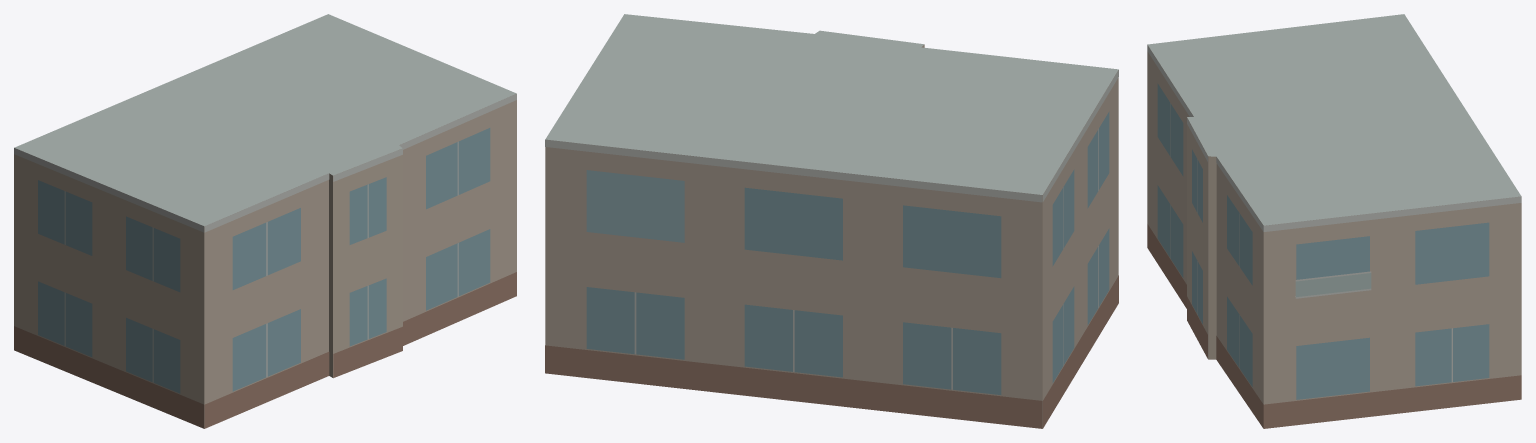
File: survey-upis-32611862.glb
3 views of the same model, side by side, from view 1: azimuth 30°, elevation 25°; view 2: azimuth 150°, elevation 25°; view 3: azimuth 270°, elevation 25° (orthographic). The views are drawn at different scales.
Parts seen in each view (by area): view 1: survey-upis-32611862.tmp; view 2: survey-upis-32611862.tmp; view 3: survey-upis-32611862.tmp.
Boxes of the visible parts, box(x1,y1,x2,y2) form: survey-upis-32611862.tmp: box(14, 14, 516, 428); survey-upis-32611862.tmp: box(545, 14, 1118, 428); survey-upis-32611862.tmp: box(1147, 14, 1521, 428).
Bounding box in the file's own units: 17.22 × 7.7 × 12.87.
